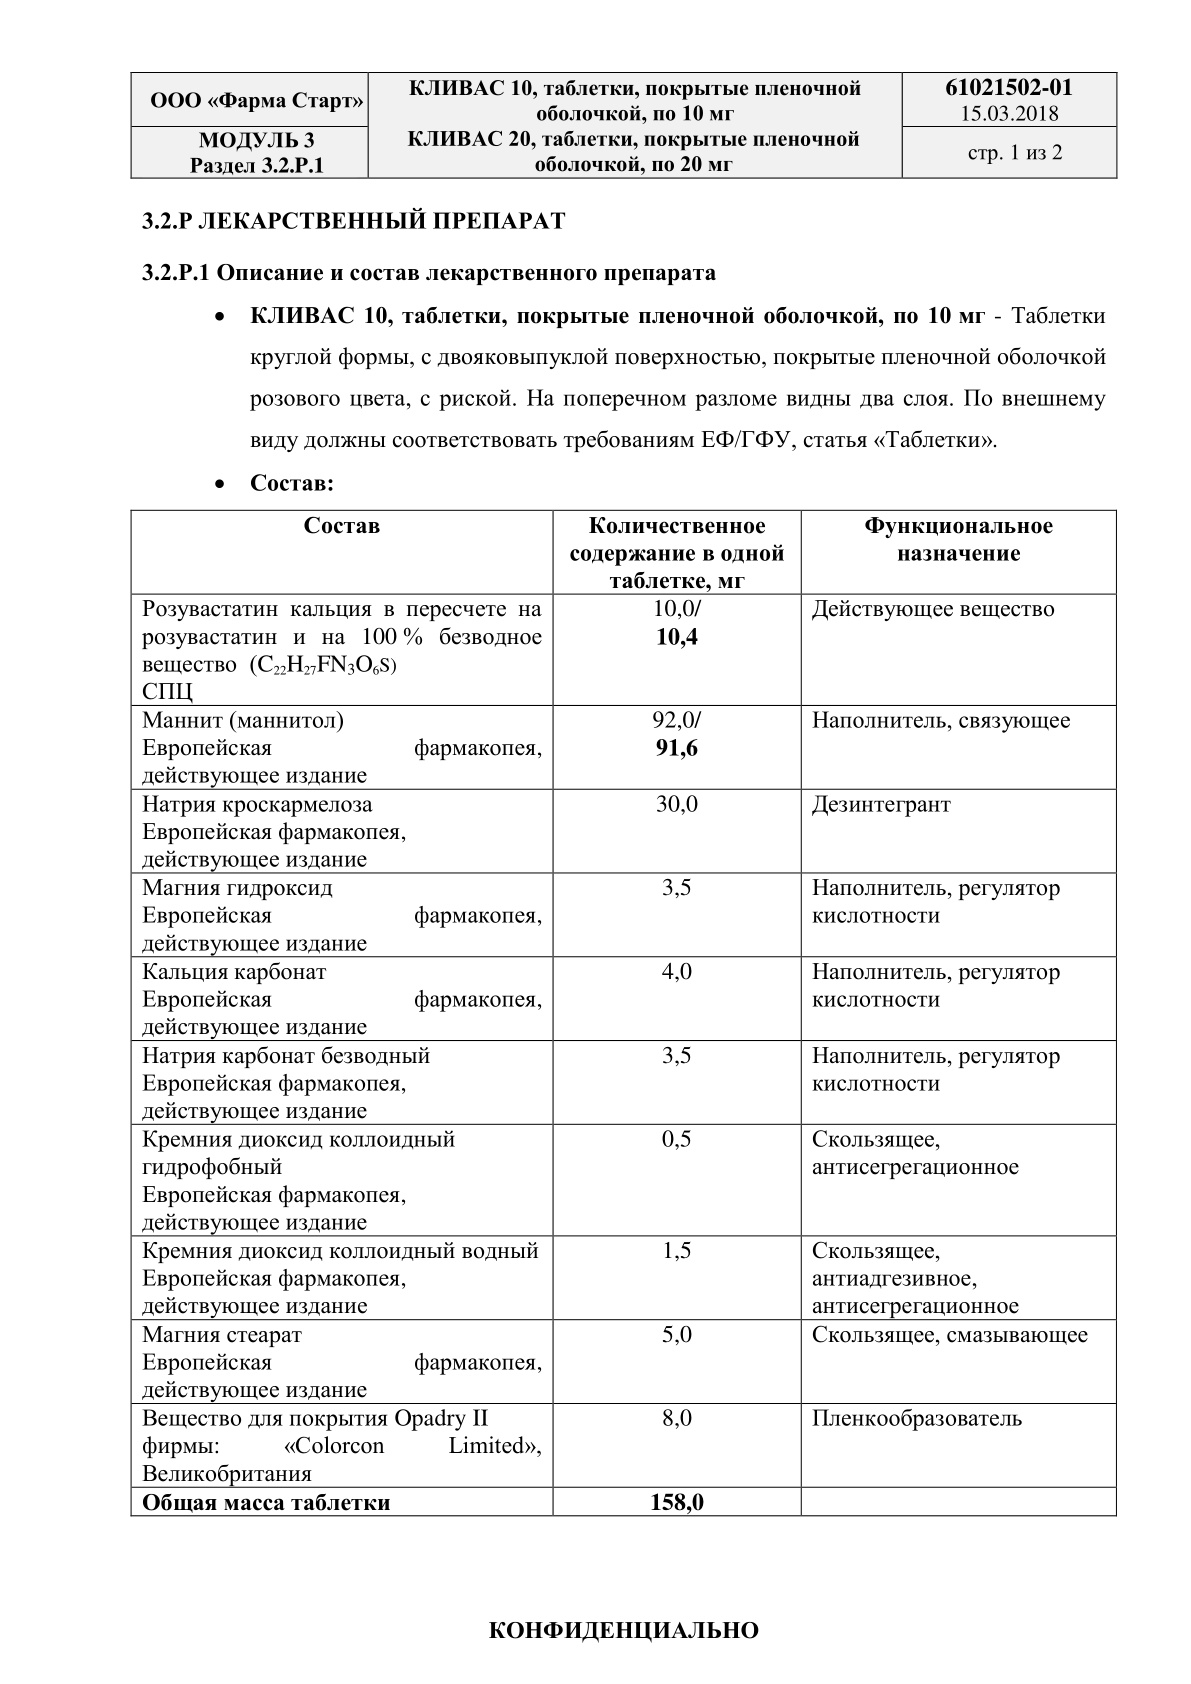full_lined: (128, 506, 1118, 1517)
merged_cells: (130, 70, 1118, 179)
